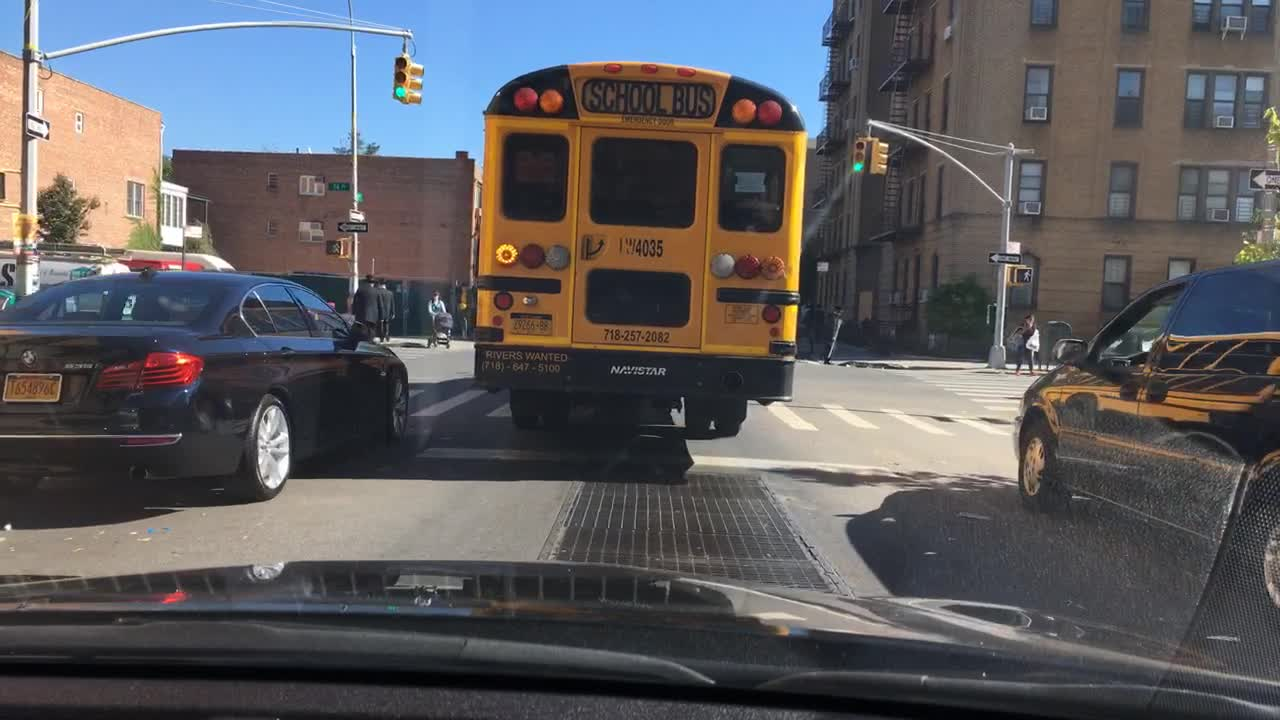bus: (471, 62, 805, 435)
car: (1011, 256, 1279, 623), (0, 270, 408, 496)
person: (1002, 310, 1039, 381), (349, 272, 388, 334), (820, 300, 847, 361), (376, 275, 400, 341), (427, 287, 449, 349), (796, 295, 816, 358)
traffic light: (393, 52, 410, 99), (408, 64, 425, 104), (869, 138, 889, 172), (320, 236, 347, 258), (850, 137, 865, 172), (1009, 265, 1034, 285)
traffic sign: (23, 111, 50, 140), (1247, 169, 1279, 192), (985, 250, 1022, 265), (334, 221, 368, 233), (325, 179, 352, 191), (346, 206, 364, 219), (813, 260, 827, 273)
truck: (0, 233, 239, 273), (0, 236, 131, 299)
